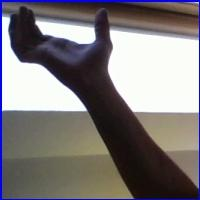space: (5, 1, 113, 85)
